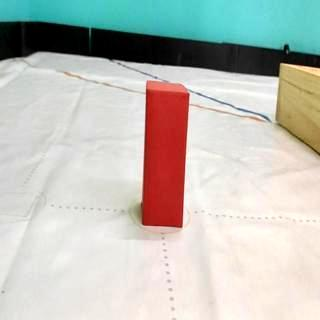redbox: (142, 80, 190, 227)
